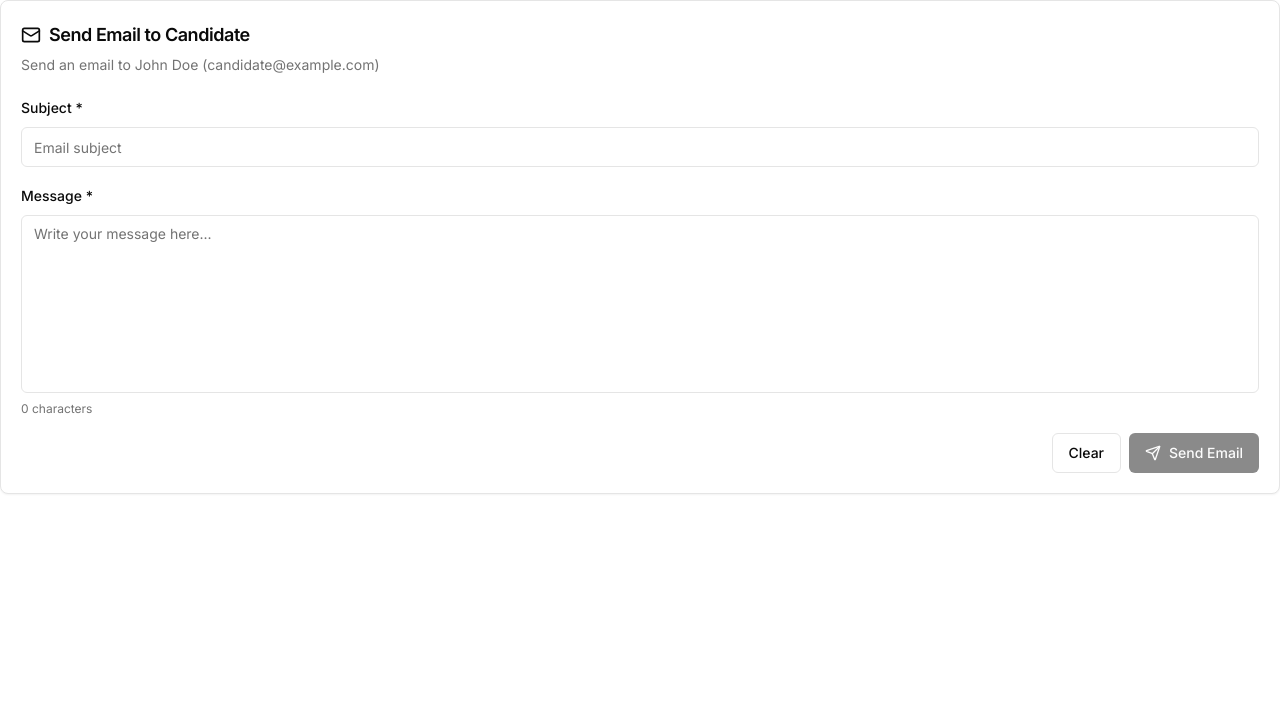
Test: CandidateCommunicationForm › clears form when Clear button is clicked
In the field labelled "Subject *": (640, 147) left=21, top=127, right=1259, bottom=167, type "Test Subject"
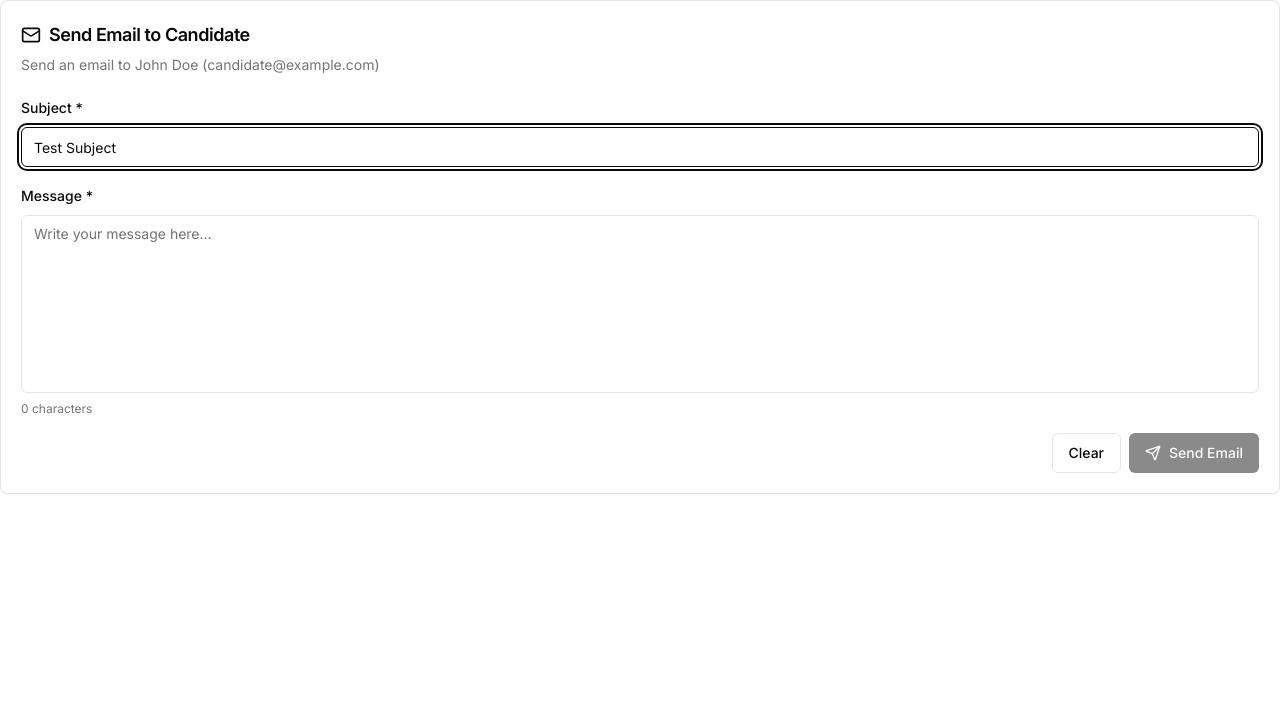
In the text box labelled "Message *": (640, 304) left=21, top=215, right=1259, bottom=393, type "Test message"
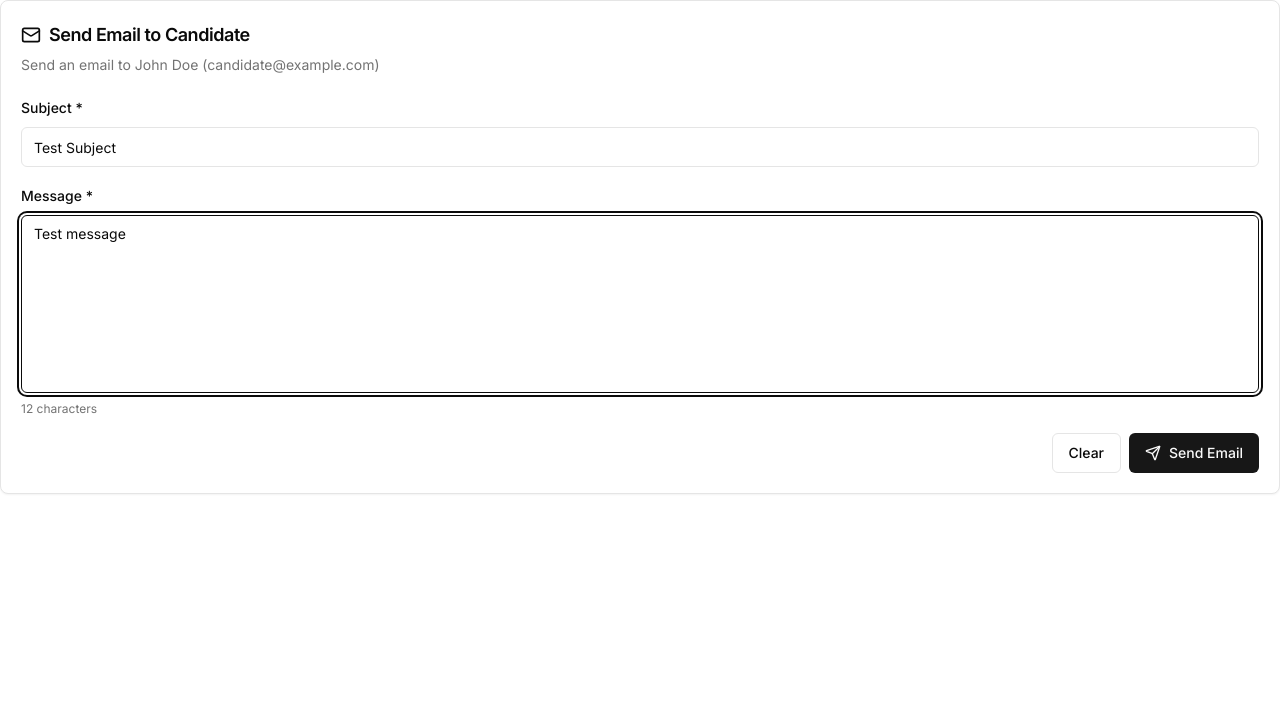
Click the button "Clear": (1086, 453) left=1052, top=433, right=1121, bottom=473
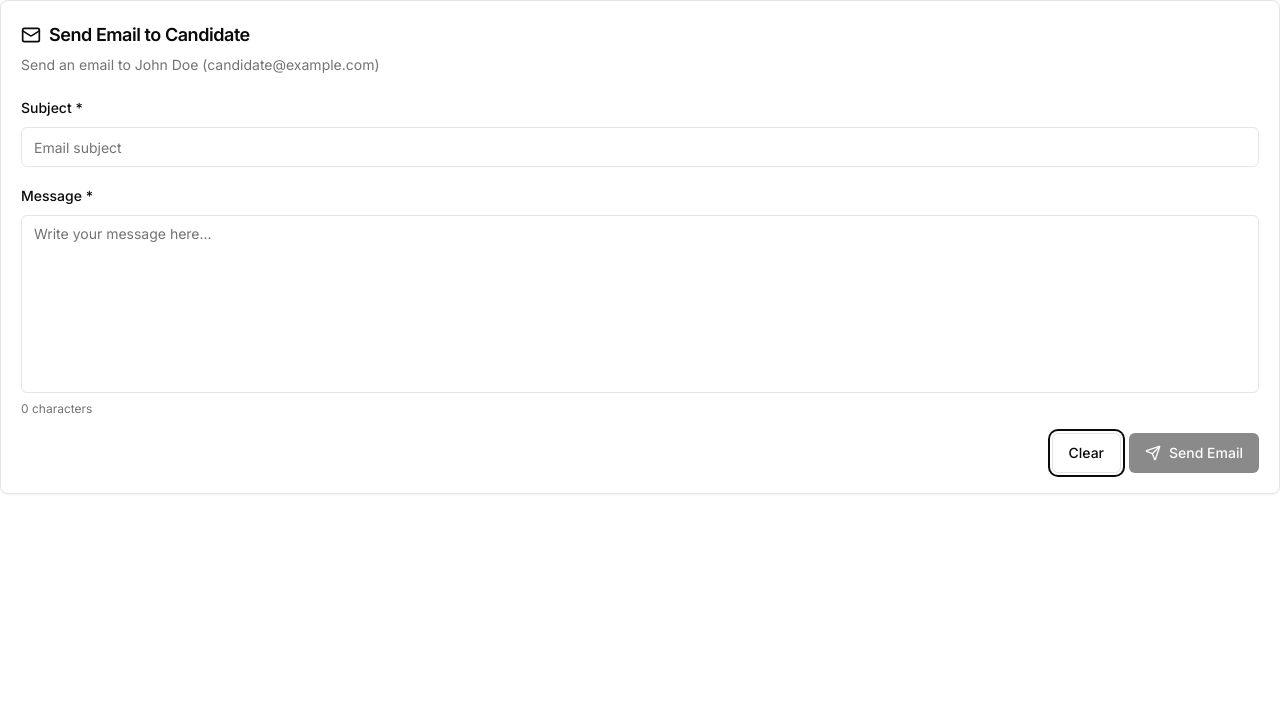
expect the field labelled "Subject *" is empty: met, box left=21, top=127, right=1259, bottom=167
expect the text box labelled "Message *" is empty: met, box left=21, top=215, right=1259, bottom=393
